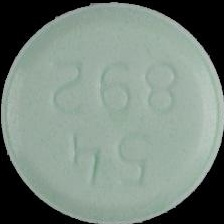0054-4184: (0, 0, 224, 224)
